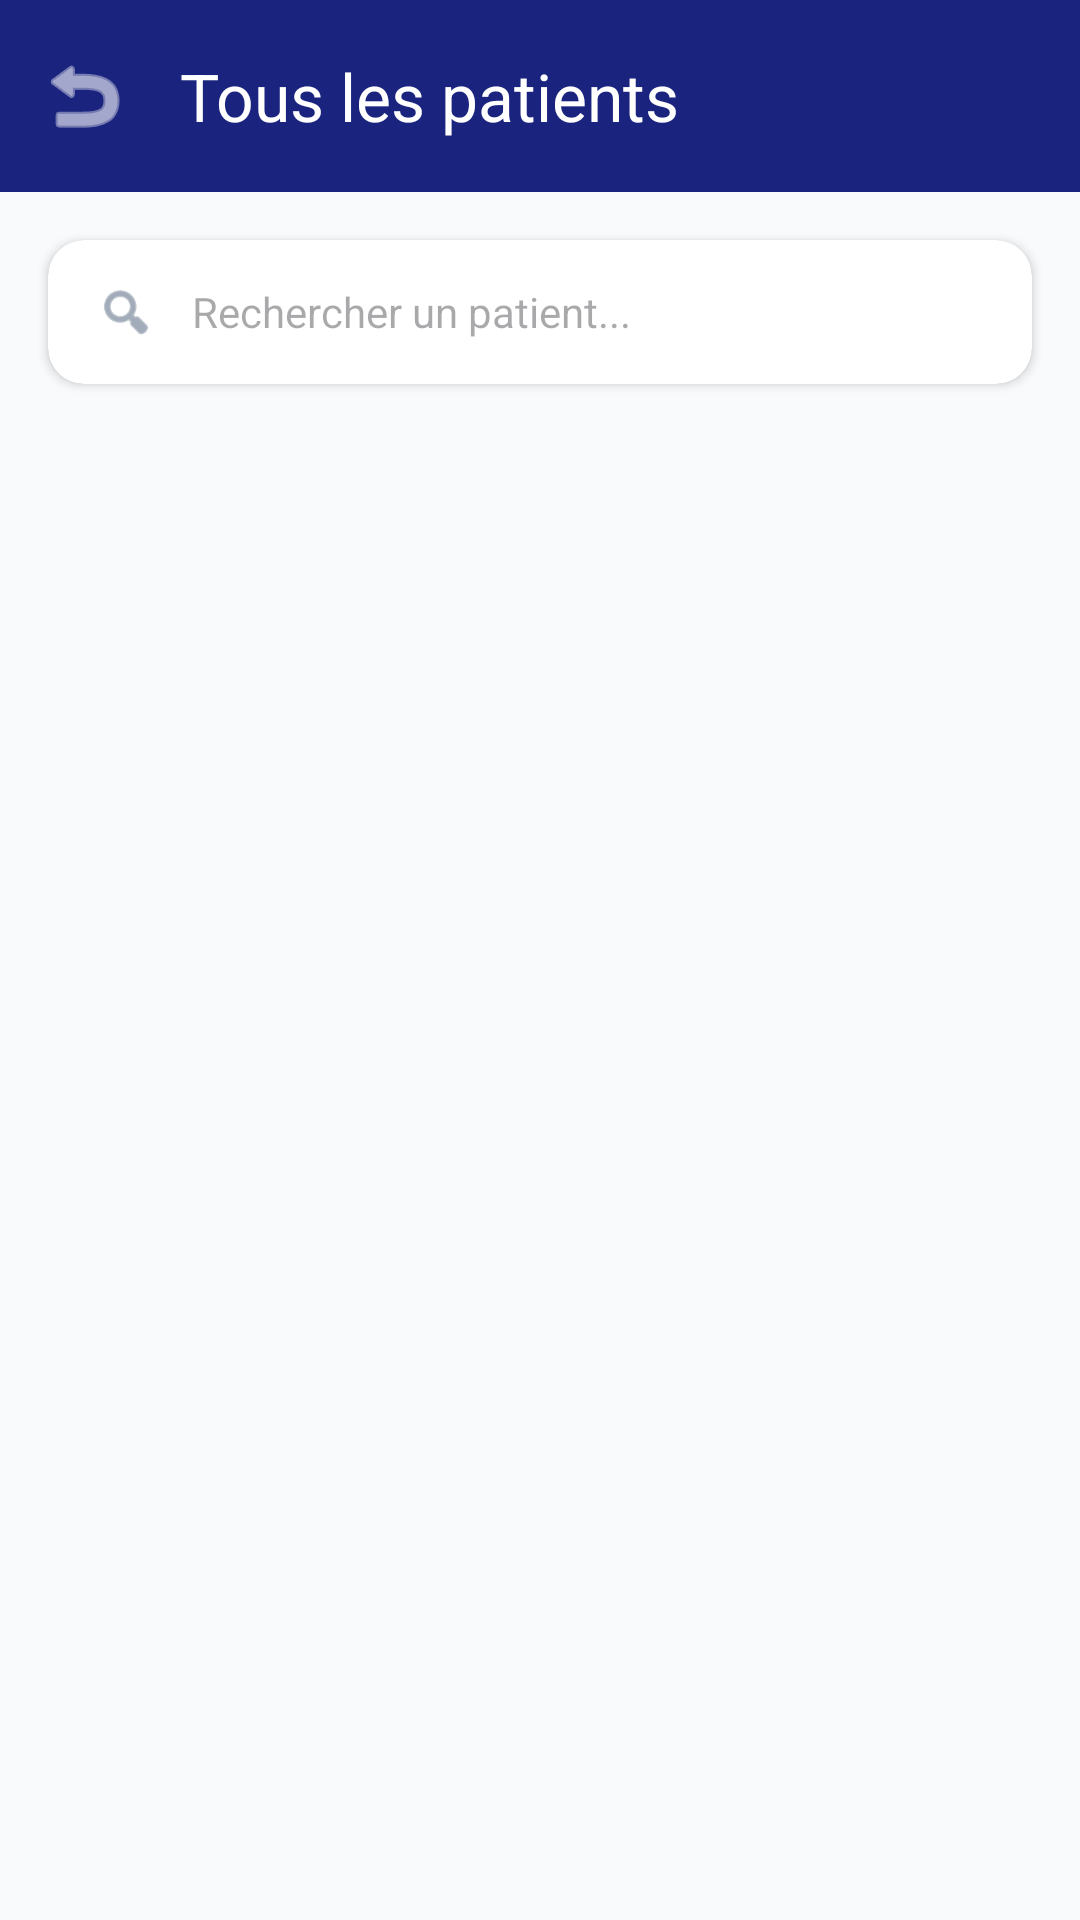

Point at icon controls on the screen. Image size 1080w x 1920h, points as point (x, y).
search: point (126, 312)
